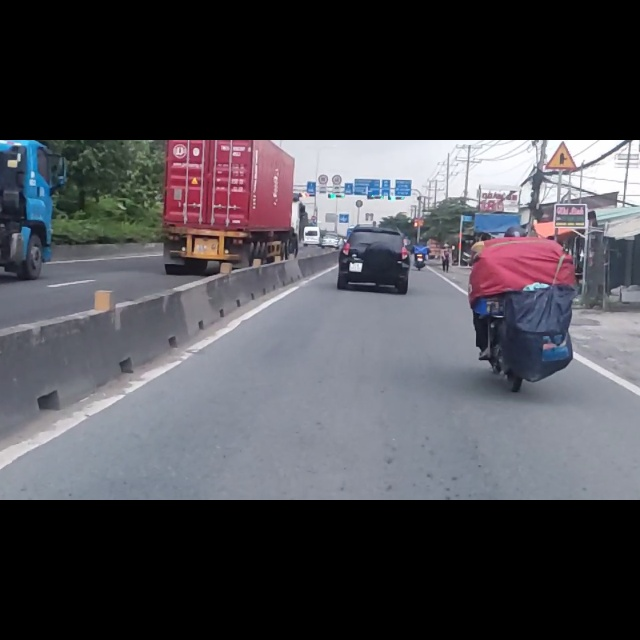bien_hieu_lenh: (545, 2, 579, 56), (332, 63, 342, 81), (319, 62, 329, 79)
